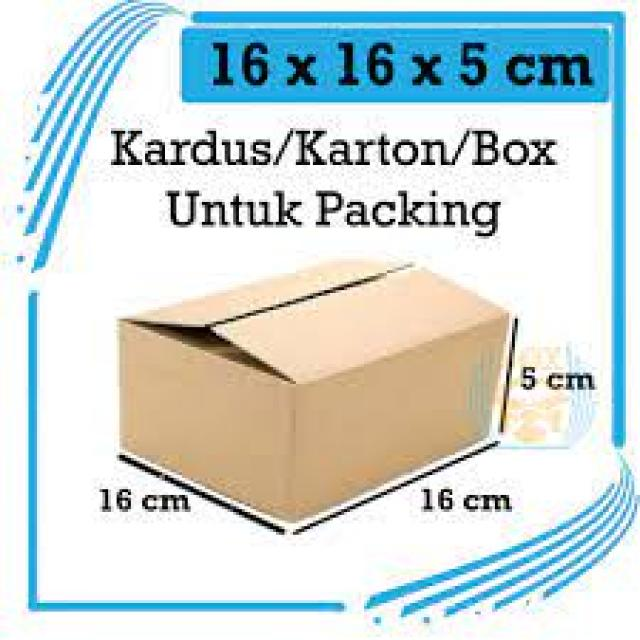Kardus kondisi bagus: (118, 258, 510, 530)
